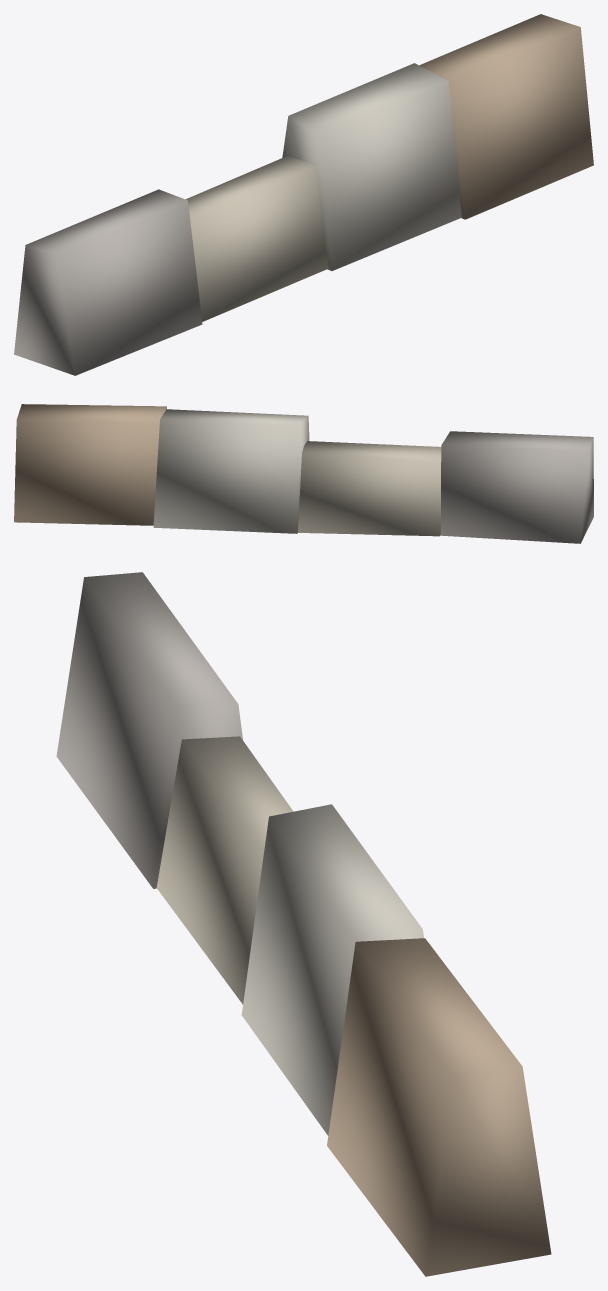
The model's file is farm_-39_-49_far.glb.
3 views of the same model, one above another, from view 1: azimuth 30°, elevation 25°; view 2: azimuth 150°, elevation 25°; view 3: azimuth 270°, elevation 25° (orthographic). The views are drawn at different scales.
Visible parts, largest first — view 1: geometry_0; view 2: geometry_0; view 3: geometry_0.
Boxes of the visible parts, x1,y1,x2,y2 form: geometry_0: (14,14,593,375); geometry_0: (14,404,593,543); geometry_0: (56,572,551,1276).
Bounding box in the file's own units: 6.16 × 1.37 × 2.69.
